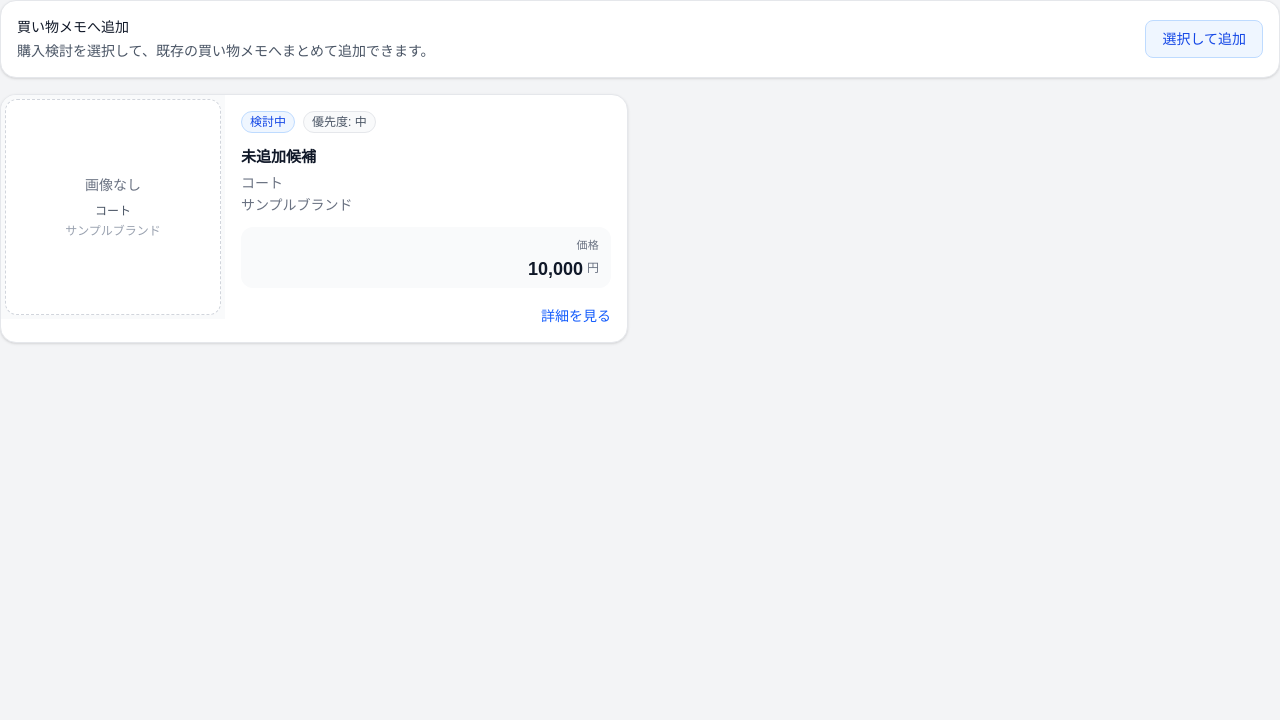
Test: PurchaseCandidateShoppingMemoBulkAdd › 未追加候補をチェックすると追加予定になり、変更を反映が enabled になる
The width and height of the screenshot is (1280, 720).
Step 1. Click the button "選択して追加" → x=1204, y=39, box [1145,20,1263,58]
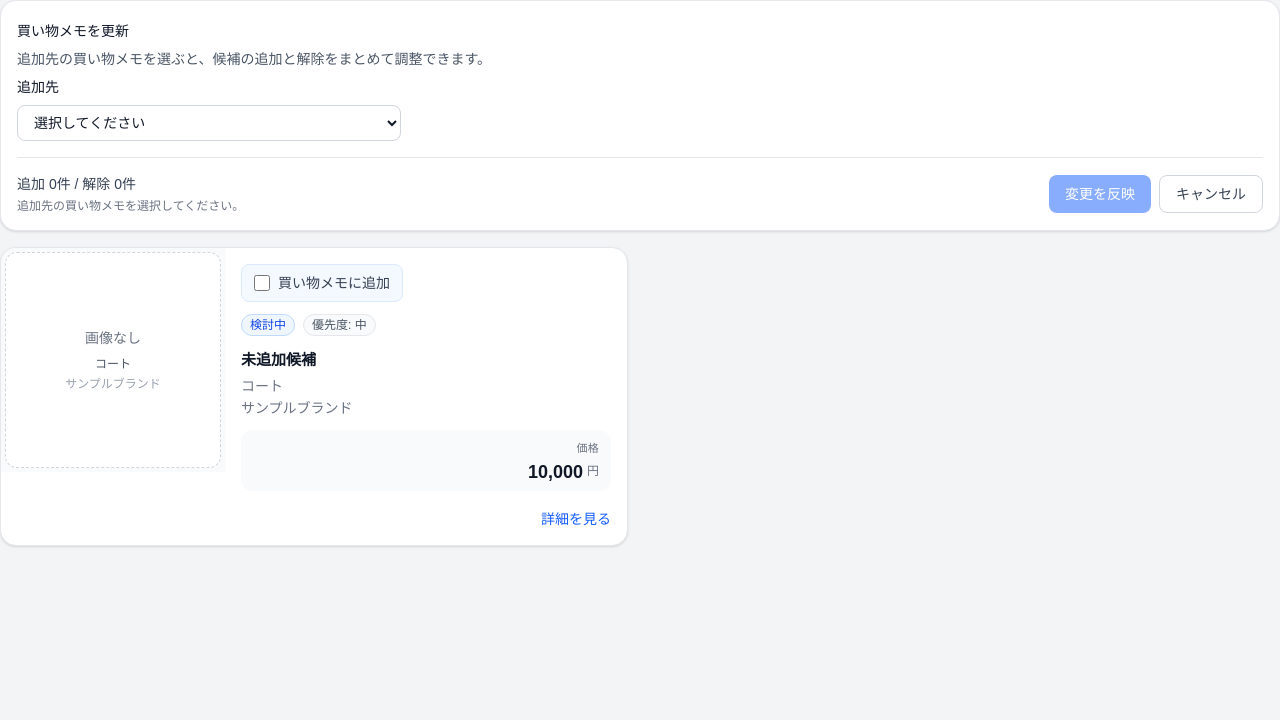
Step 2. Select "春夏物" in the dropdown labelled "追加先" → x=209, y=123, box [17,105,401,141]
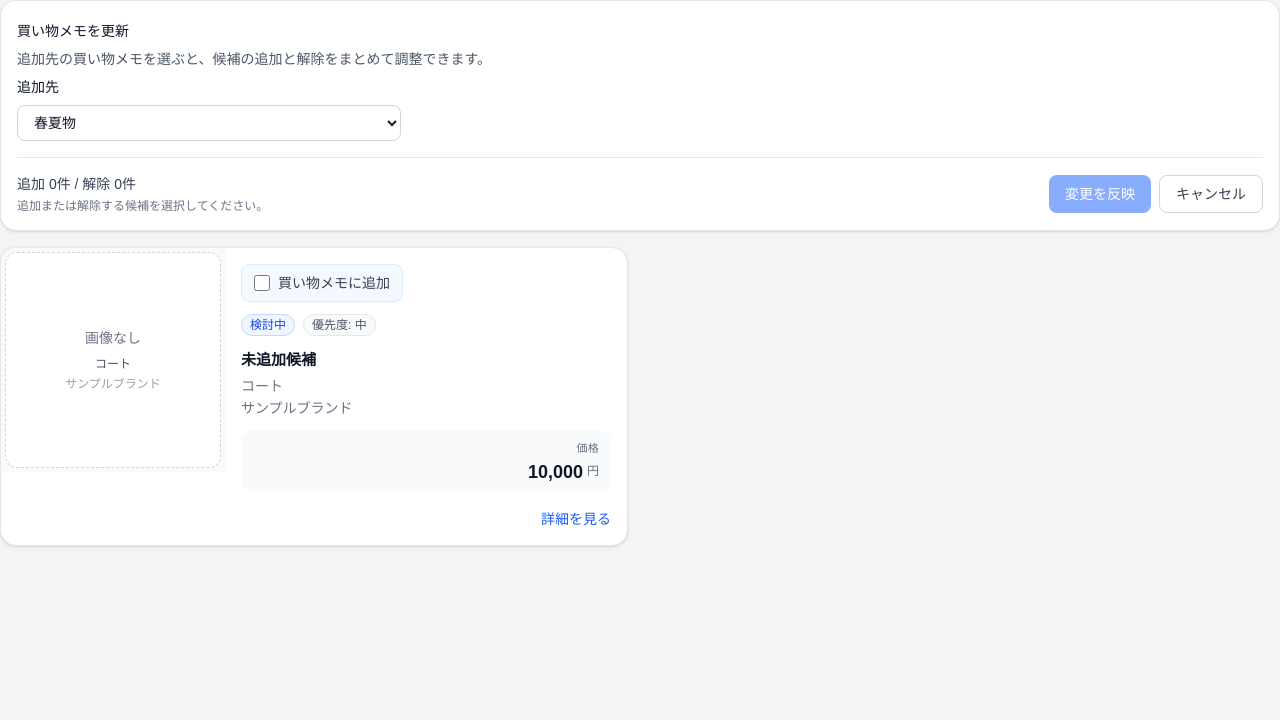
Step 3. Click the checkbox with test id "purchase-candidate-checkbox-31" → x=262, y=283, box [254,275,270,291]
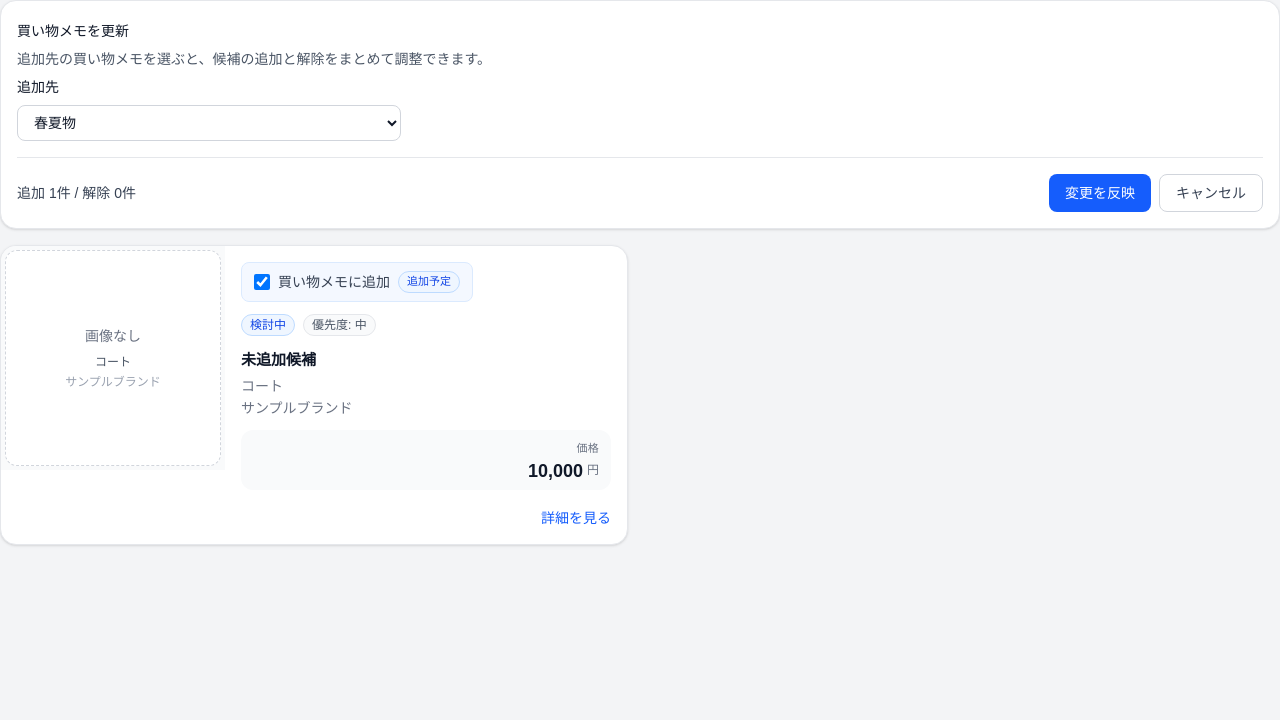
Expected: the text "追加予定" is shown, [398,271,460,293]
Expected: the text "追加 1件 / 解除 0件" is shown, [17,183,136,203]
Expected: the button "変更を反映" is enabled, [1049,174,1151,212]
